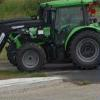Tractor: (6, 2, 100, 66)
